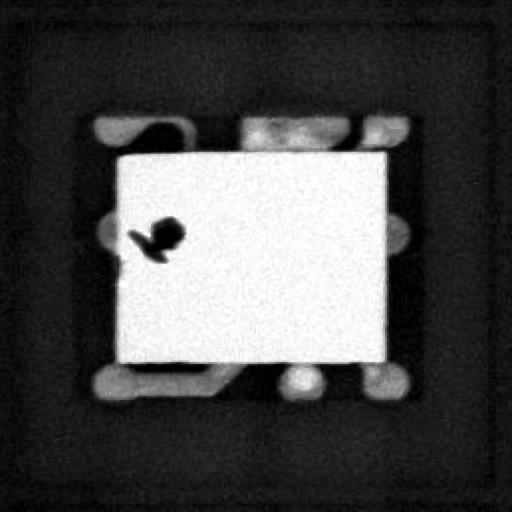DIE_INK: (118, 222, 174, 274)
